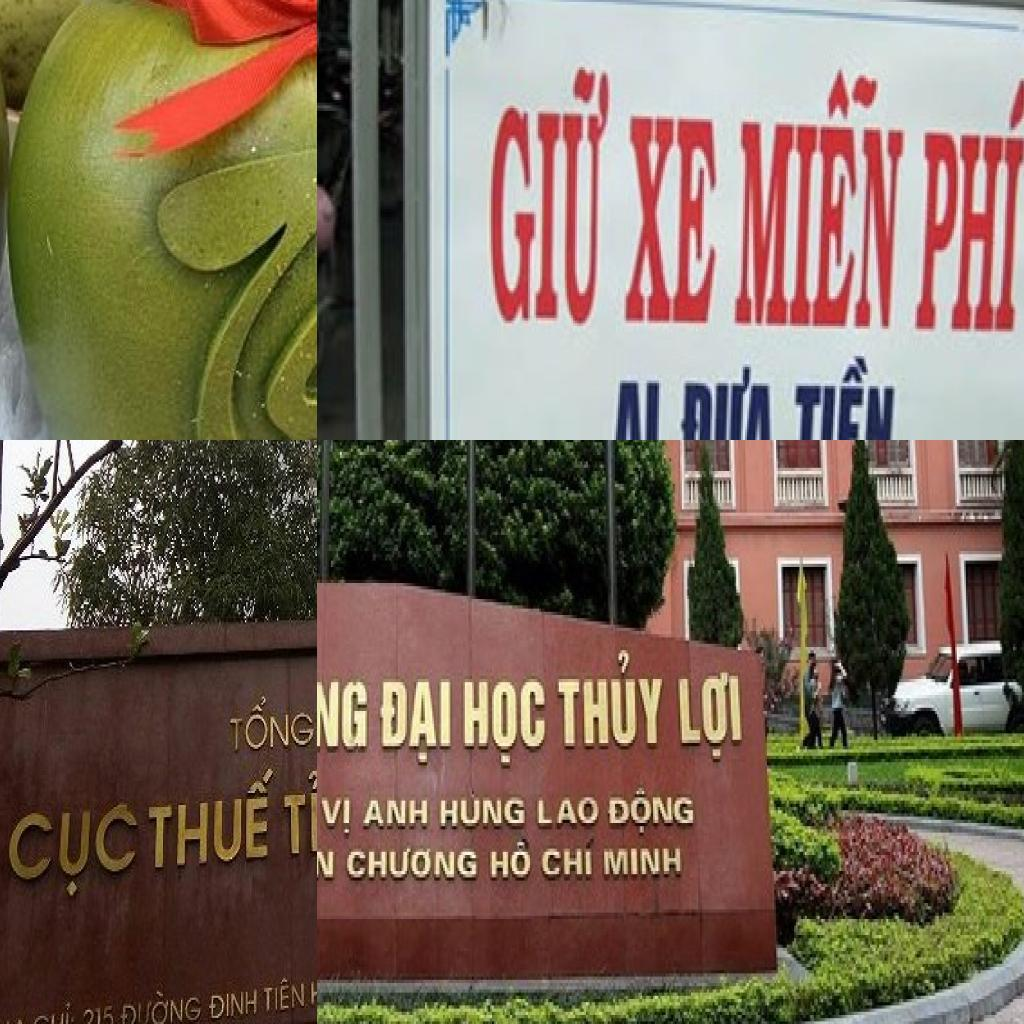text: (139, 108, 317, 440), (731, 56, 913, 340), (487, 65, 616, 334), (913, 70, 1024, 339), (622, 102, 723, 332), (145, 765, 278, 877), (8, 801, 143, 905), (556, 647, 670, 753), (790, 350, 902, 440), (463, 676, 548, 768), (677, 367, 777, 440), (378, 679, 454, 765), (228, 690, 317, 759), (677, 673, 745, 762), (346, 845, 480, 884), (317, 656, 369, 752), (606, 784, 696, 836), (280, 762, 317, 861), (609, 375, 665, 440), (118, 984, 204, 1024), (440, 794, 528, 833), (541, 832, 597, 884), (488, 832, 534, 884), (536, 794, 602, 830), (362, 798, 430, 832), (262, 974, 308, 1018), (208, 986, 260, 1024), (320, 797, 353, 839), (31, 998, 76, 1024), (317, 839, 336, 884), (80, 1002, 117, 1024)
